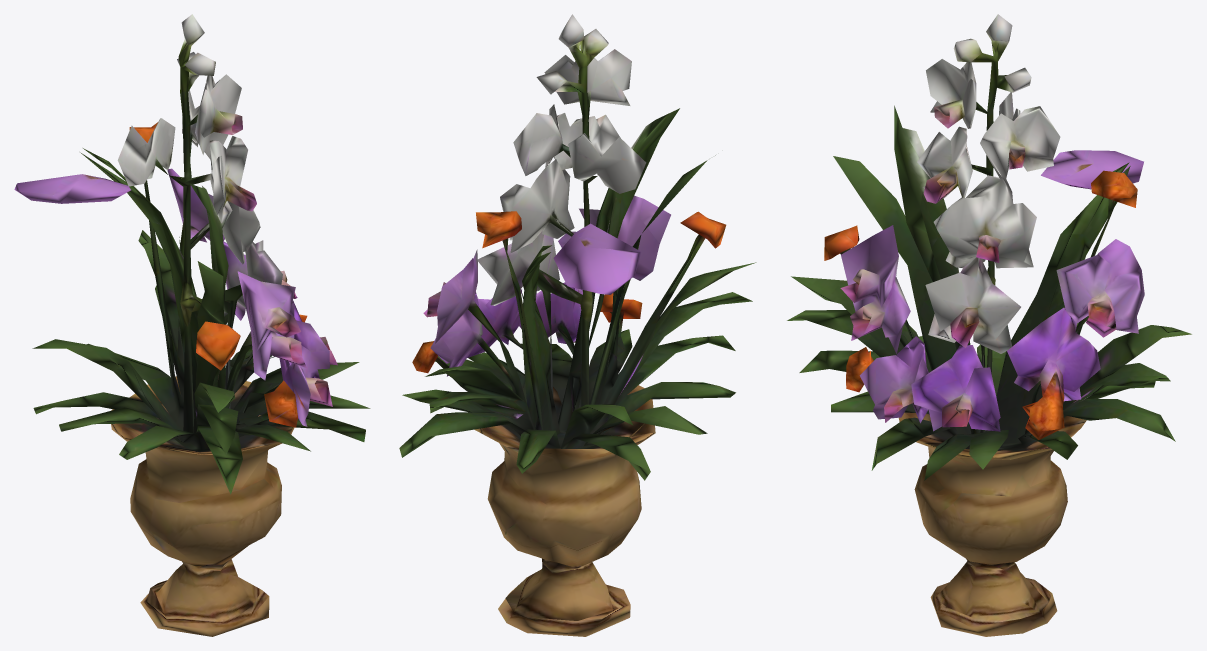
File: vase.glb
3 renders of one model, left to right at view 1: azimuth 30°, elevation 25°; view 2: azimuth 150°, elevation 25°; view 3: azimuth 270°, elevation 25°, orthographic.
Parts seen in each view (by area): view 1: tripo_node_1e6d3396-6205-4466-8654-cf31031d1d6d; view 2: tripo_node_1e6d3396-6205-4466-8654-cf31031d1d6d; view 3: tripo_node_1e6d3396-6205-4466-8654-cf31031d1d6d.
Part boxes in pixels (x1,y1,x2,y2): tripo_node_1e6d3396-6205-4466-8654-cf31031d1d6d: [14, 14, 370, 636]; tripo_node_1e6d3396-6205-4466-8654-cf31031d1d6d: [399, 14, 756, 636]; tripo_node_1e6d3396-6205-4466-8654-cf31031d1d6d: [787, 14, 1191, 636].
Bounding box in the file's own units: 0.5153 × 1 × 0.6241.
Materials: 1 (1 with a texture image).
